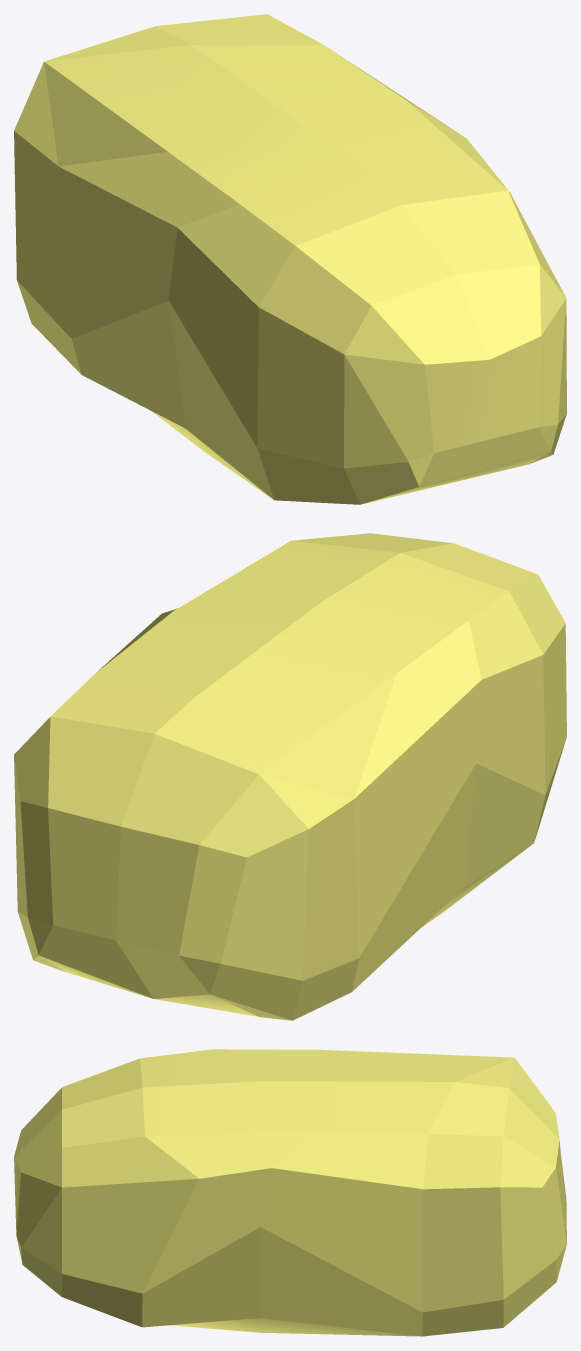
Rendered from PeeledPotato.fbx.
3 renders of one model, top to bottom at view 1: azimuth 30°, elevation 25°; view 2: azimuth 150°, elevation 25°; view 3: azimuth 270°, elevation 25°, orthographic. The views are drawn at different scales.
Parts seen in each view (by area): view 1: Potato; view 2: Potato; view 3: Potato.
Part boxes in pixels (x1,y1,x2,y2): Potato: [14, 14, 566, 504]; Potato: [14, 533, 566, 1020]; Potato: [14, 1049, 566, 1336].
Size of the model in its own units: 10.81 by 9.5 by 22.63.
